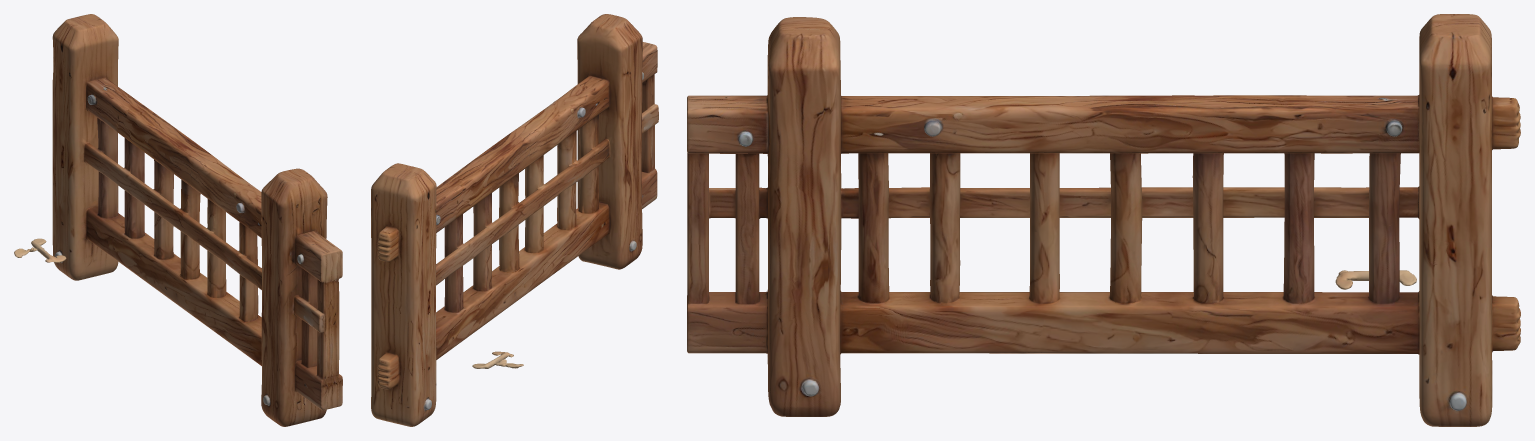
The model's file is prop-fence-wood.glb.
3 views of the same model, side by side, from view 1: azimuth 30°, elevation 25°; view 2: azimuth 150°, elevation 25°; view 3: azimuth 270°, elevation 25° (orthographic). The views are drawn at different scales.
Parts seen in each view (by area): view 1: tripo_node_48b848a0-de0a-4807-912d-41222a06186f; view 2: tripo_node_48b848a0-de0a-4807-912d-41222a06186f; view 3: tripo_node_48b848a0-de0a-4807-912d-41222a06186f.
Boxes of the visible parts, x1,y1,x2,y2 form: tripo_node_48b848a0-de0a-4807-912d-41222a06186f: (14, 14, 342, 426); tripo_node_48b848a0-de0a-4807-912d-41222a06186f: (371, 14, 658, 426); tripo_node_48b848a0-de0a-4807-912d-41222a06186f: (687, 14, 1520, 426).
Size of the model in its own units: 0.7803 by 1.5 by 2.92.
Materials: 1 (1 with a texture image).
